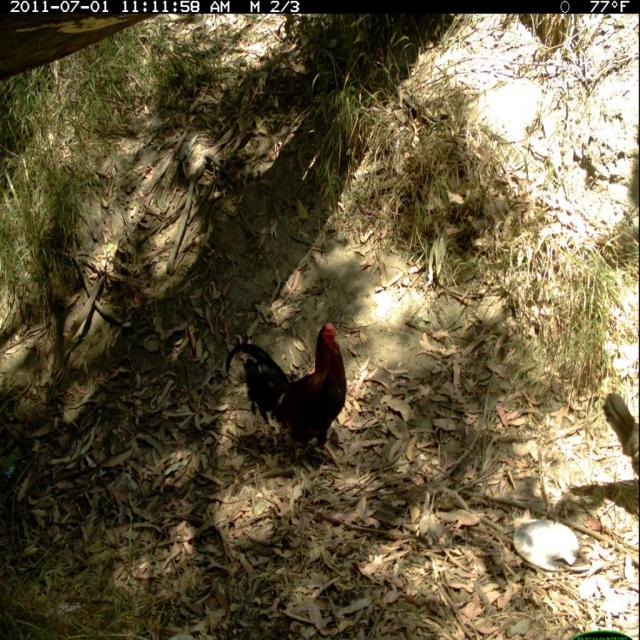bird: (227, 319, 355, 475), (601, 389, 640, 481)
